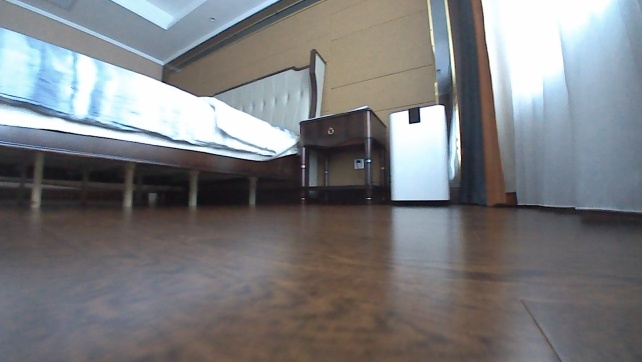bed1: (0, 26, 333, 212)
cabinet: (293, 103, 391, 204)
